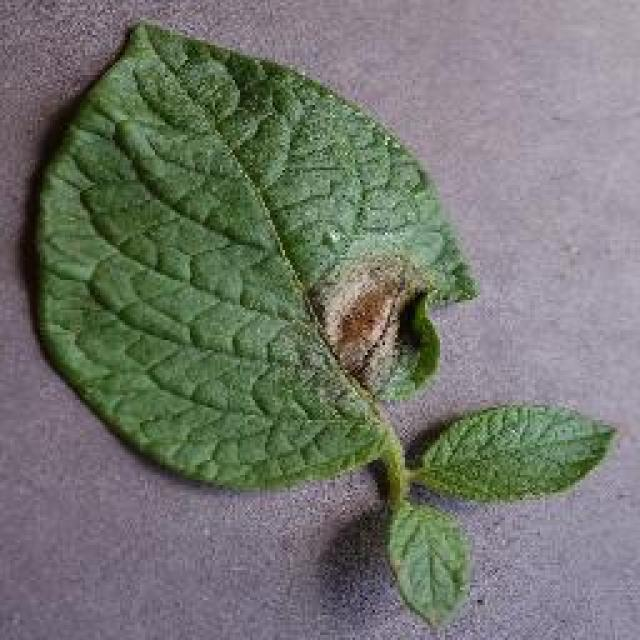late_blight: (28, 15, 480, 495)
